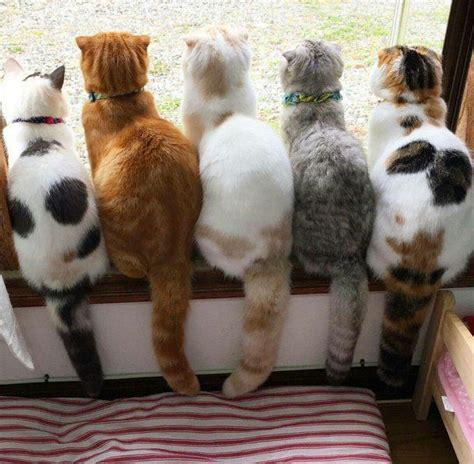cat: (76, 32, 202, 396), (181, 26, 293, 398), (371, 47, 474, 387), (2, 58, 105, 395), (282, 41, 377, 382)
